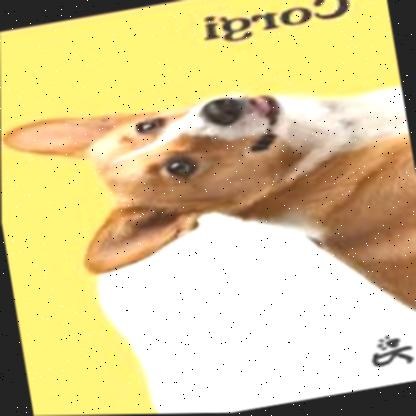dog: (0, 55, 416, 392)
